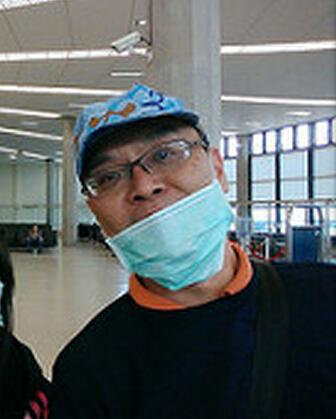WRONG: (85, 132, 218, 265)
